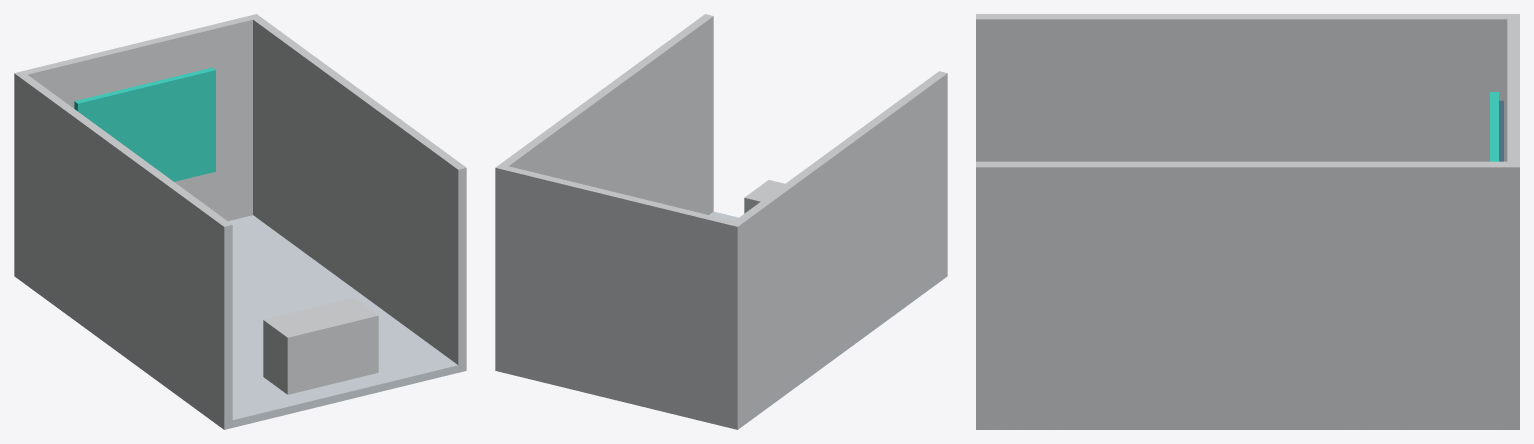
3 views of the same model, side by side, from view 1: azimuth 30°, elevation 25°; view 2: azimuth 150°, elevation 25°; view 3: azimuth 270°, elevation 25° (orthographic). The views are drawn at different scales.
Parts seen in each view (by area): view 1: Exhibition Booth Concept; view 2: Exhibition Booth Concept; view 3: Exhibition Booth Concept.
Boxes of the visible parts, x1,y1,x2,y2 form: Exhibition Booth Concept: (14, 14, 466, 429); Exhibition Booth Concept: (495, 14, 947, 429); Exhibition Booth Concept: (976, 14, 1519, 429).
Size of the model in its own units: 4 by 3.2 by 6.
